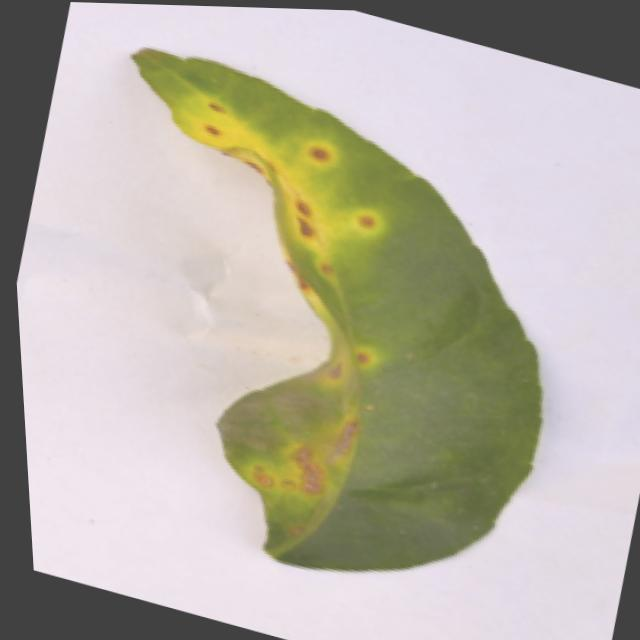canker: (134, 49, 542, 569), (151, 52, 391, 287), (219, 331, 384, 510)
